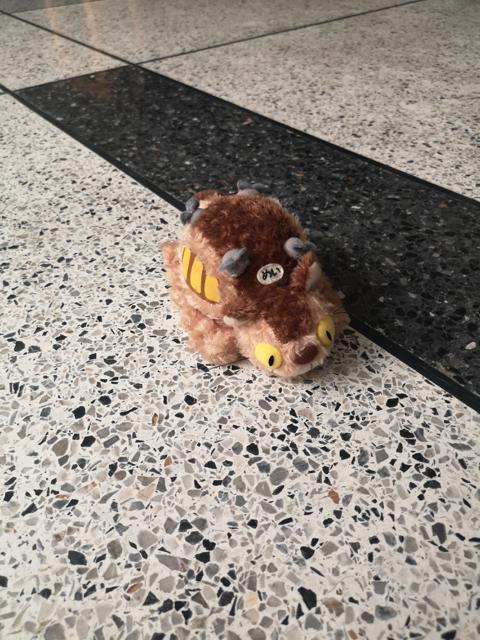nekobus: (157, 179, 355, 380)
